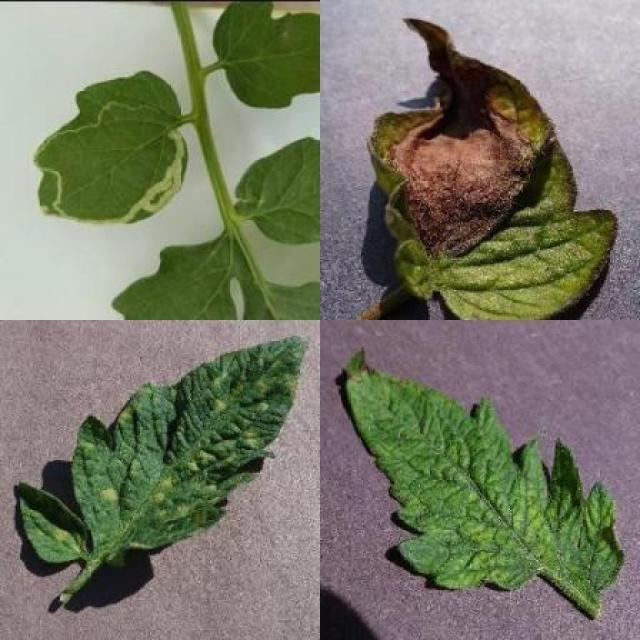Late Blight: (364, 16, 615, 320)
Leaf Miner: (35, 68, 189, 225)
Leaf Mold: (15, 333, 311, 568)
Mosaic Virus: (343, 346, 624, 596)
